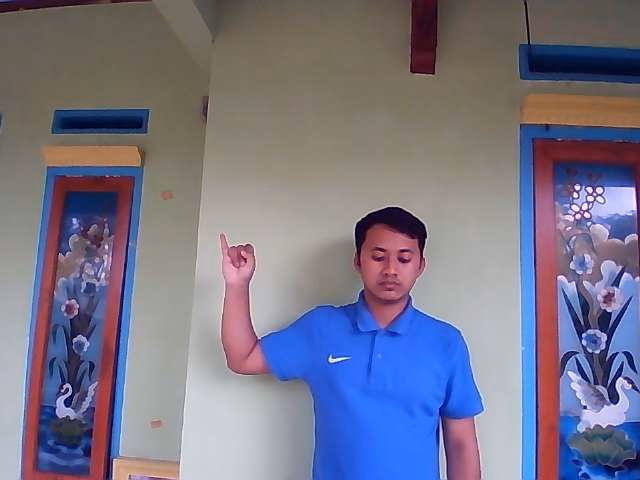I: (218, 232, 257, 288)
